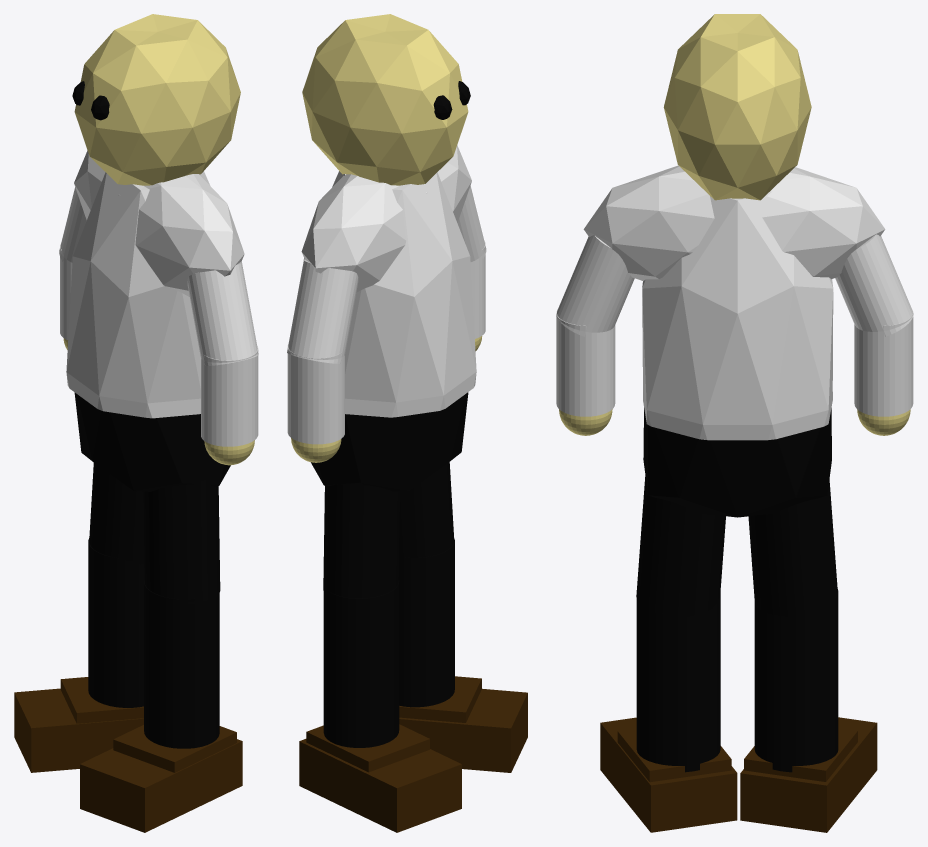
The model's file is playerER(new).fbx.
The picture shows the model from 3 angles, left to right: view 1: azimuth 30°, elevation 25°; view 2: azimuth 150°, elevation 25°; view 3: azimuth 270°, elevation 25°; orthographic projection. The views are drawn at different scales.
Parts seen in each view (by area): view 1: Icosphere, Icosphere.001, Cylinder.003, Icosphere.004, Cube.002, Icosphere.009, Cylinder.007, Cylinder.006, Cube, Cylinder, Cylinder.004, Cylinder.002 (+5 smaller); view 2: Icosphere, Icosphere.001, Cylinder.006, Icosphere.004, Cube, Icosphere.009, Cylinder.003, Cylinder.002, Cube.002, Cylinder.001, Cylinder.005, Cylinder.007 (+5 smaller); view 3: Icosphere, Icosphere.001, Icosphere.004, Icosphere.009, Cylinder.006, Cylinder.003, Cylinder.007, Cylinder.002, Cube, Cube.002, Cylinder.004, Cylinder.005 (+6 smaller).
Part boxes in pixels (x1,y1,x2,y2): Icosphere: (66,171,210,418); Icosphere.001: (74,14,240,185); Cylinder.003: (144,580,219,748); Icosphere.004: (74,150,244,296); Cube.002: (80,739,242,832); Icosphere.009: (74,392,230,491); Cylinder.007: (143,479,220,603); Cylinder.006: (88,538,144,707); Cube: (14,688,143,772); Cylinder: (187,261,258,365); Cylinder.004: (201,346,258,446); Cylinder.002: (89,462,144,564); Icosphere: (303,171,476,417); Icosphere.001: (302,14,468,185); Cylinder.006: (323,581,399,747); Icosphere.004: (301,145,471,292); Cube: (299,739,461,832); Icosphere.009: (311,392,468,491); Cylinder.003: (399,539,454,707); Cylinder.002: (323,484,400,598); Cube.002: (399,688,527,772); Cylinder.001: (287,259,358,363); Cylinder.005: (287,344,344,444); Cylinder.007: (399,462,454,557); Icosphere: (642,191,833,440); Icosphere.001: (663,14,811,200); Icosphere.004: (583,165,885,281); Icosphere.009: (643,408,831,517); Cylinder.006: (754,589,838,772); Cylinder.003: (636,592,720,772); Cylinder.007: (636,474,725,616); Cylinder.002: (748,479,837,616); Cube: (740,717,877,832); Cube.002: (600,717,737,832); Cylinder.004: (556,309,615,416); Cylinder.005: (854,312,913,416).
Bounding box in the file's own units: 80.49 × 320 × 133.
